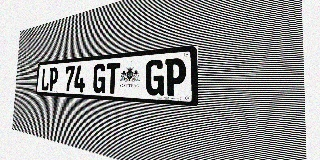4: (74, 65, 86, 92)
7: (64, 66, 75, 92)
G: (145, 59, 165, 96), (92, 63, 106, 93)
L: (41, 68, 50, 91)
P: (165, 58, 186, 97), (49, 67, 58, 91)
T: (105, 62, 120, 94)
